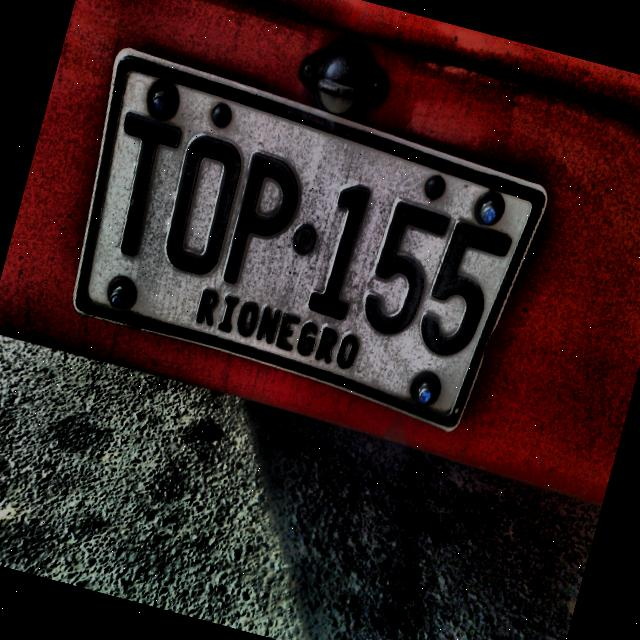1: (301, 170, 385, 324)
5: (411, 213, 518, 369), (355, 196, 455, 346)
O: (159, 128, 251, 283)
P: (218, 144, 311, 297)
T: (99, 108, 188, 262)
